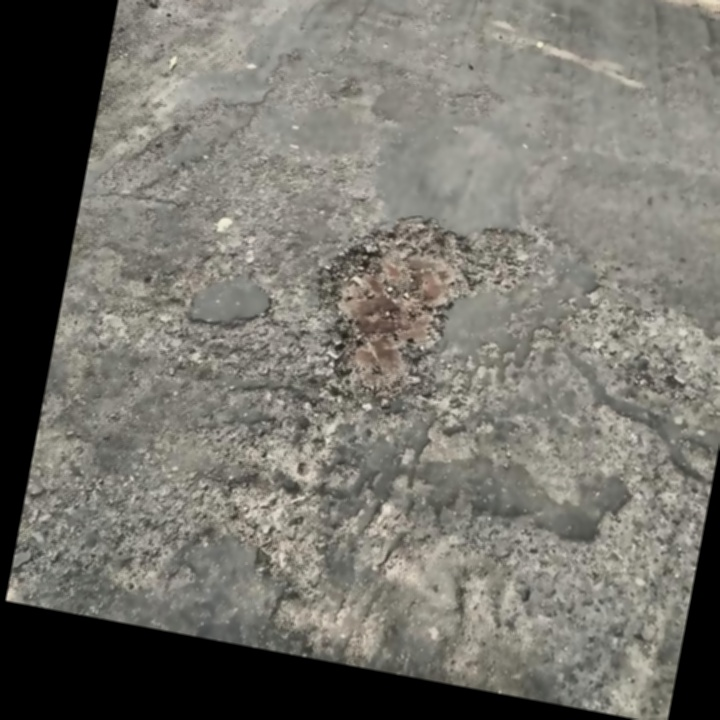pothole: (296, 190, 545, 428)
